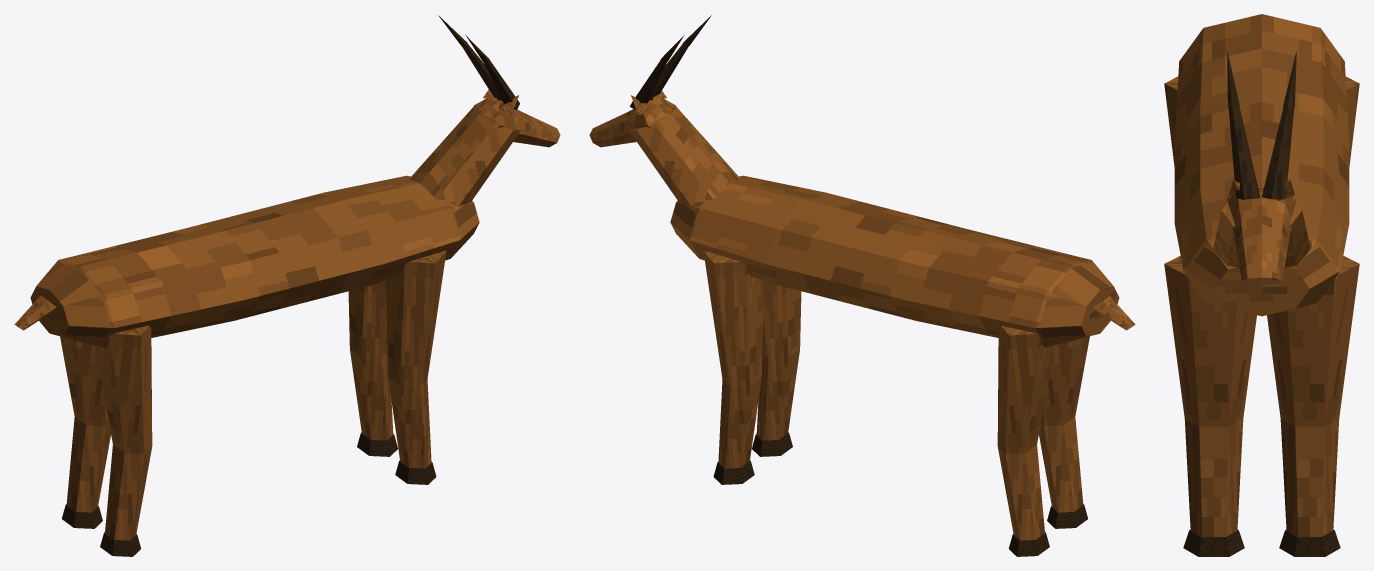
Rendered from gacela.glb.
The picture shows the model from 3 angles, left to right: view 1: azimuth 30°, elevation 25°; view 2: azimuth 150°, elevation 25°; view 3: azimuth 270°, elevation 25°; orthographic projection. The views are drawn at different scales.
Parts seen in each view (by area): view 1: cuerpo, pata_delantera_der, pata_trasera_der, pata_trasera_izq, pata_delantera_izq, cuello, cabeza, cuernos, pezuna_trasera_der, pezuna_delantera_der, pezuna_trasera_izq, pezuna_delantera_izq (+1 smaller); view 2: cuerpo, pata_delantera_izq, pata_trasera_izq, pata_trasera_der, pata_delantera_der, cuello, cabeza, cuernos, pezuna_trasera_izq, pezuna_delantera_izq, pezuna_trasera_der, pezuna_delantera_der (+1 smaller); view 3: cuerpo, pata_delantera_izq, pata_delantera_der, cabeza, cuernos, cuello, pezuna_delantera_izq, pezuna_delantera_der, pata_trasera_izq, pata_trasera_der, orejas.
Part boxes in pixels (left/top/right/bottom): cuerpo: left=30, top=175, right=479, bottom=347; pata_delantera_der: left=386, top=250, right=446, bottom=468; pata_trasera_der: left=95, top=325, right=152, bottom=540; pata_trasera_izq: left=60, top=336, right=110, bottom=512; pata_delantera_izq: left=348, top=280, right=393, bottom=440; cuello: left=409, top=107, right=521, bottom=206; cabeza: left=473, top=99, right=560, bottom=147; cuernos: left=438, top=15, right=519, bottom=109; pezuna_trasera_der: left=100, top=532, right=141, bottom=556; pezuna_delantera_der: left=395, top=460, right=436, bottom=484; pezuna_trasera_izq: left=62, top=504, right=102, bottom=528; pezuna_delantera_izq: left=357, top=432, right=397, bottom=456; cuerpo: left=670, top=175, right=1119, bottom=347; pata_delantera_izq: left=703, top=250, right=763, bottom=468; pata_trasera_izq: left=997, top=325, right=1054, bottom=540; pata_trasera_der: left=1039, top=336, right=1089, bottom=512; pata_delantera_der: left=756, top=280, right=801, bottom=440; cuello: left=628, top=107, right=740, bottom=206; cabeza: left=589, top=99, right=676, bottom=147; cuernos: left=629, top=15, right=711, bottom=109; pezuna_trasera_izq: left=1008, top=532, right=1049, bottom=556; pezuna_delantera_izq: left=713, top=460, right=754, bottom=484; pezuna_trasera_der: left=1047, top=504, right=1087, bottom=528; pezuna_delantera_der: left=752, top=432, right=792, bottom=456; cuerpo: left=1174, top=14, right=1349, bottom=316; pata_delantera_izq: left=1267, top=255, right=1359, bottom=536; pata_delantera_der: left=1164, top=255, right=1256, bottom=536; cabeza: left=1227, top=187, right=1296, bottom=284; cuernos: left=1227, top=51, right=1296, bottom=199; cuello: left=1213, top=202, right=1310, bottom=267; pezuna_delantera_izq: left=1279, top=529, right=1340, bottom=556; pezuna_delantera_der: left=1183, top=529, right=1244, bottom=556; pata_trasera_izq: left=1345, top=76, right=1359, bottom=166; pata_trasera_der: left=1164, top=76, right=1178, bottom=166; orejas: left=1229, top=180, right=1294, bottom=200.
Bounding box in the file's own units: 1.2 × 0.9 × 0.3.
Materials: 1 (1 with a texture image).
